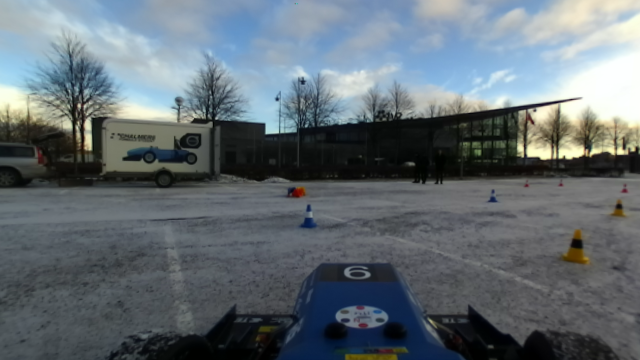blue: (299, 201, 319, 230), (485, 187, 500, 205)
yellow: (558, 229, 589, 266), (610, 196, 628, 219)
